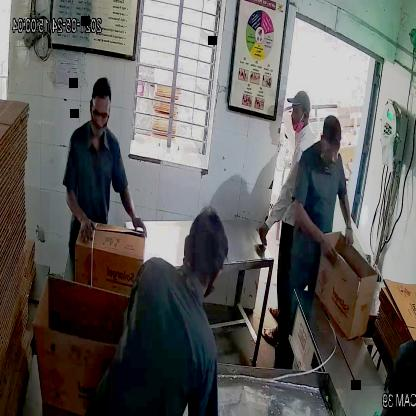goggles: (89, 101, 114, 124)
